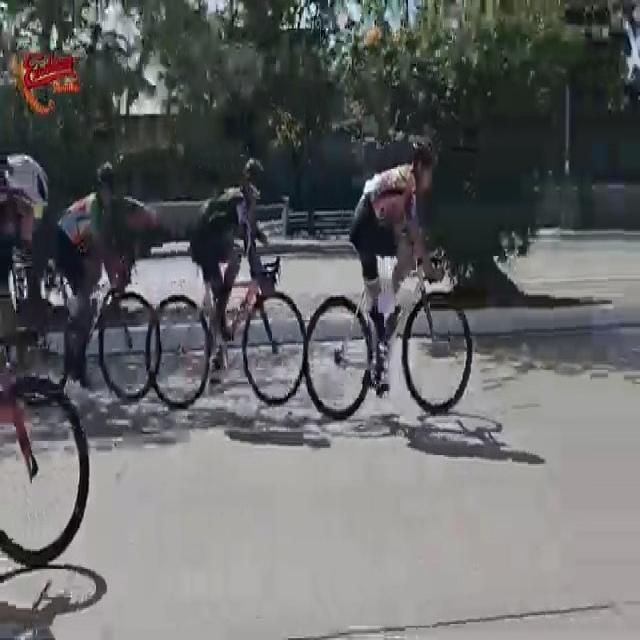bike: (304, 132, 474, 414), (146, 153, 308, 409), (0, 149, 92, 568), (8, 159, 162, 405)
